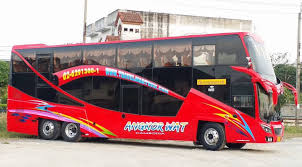bus: (5, 31, 285, 151)
